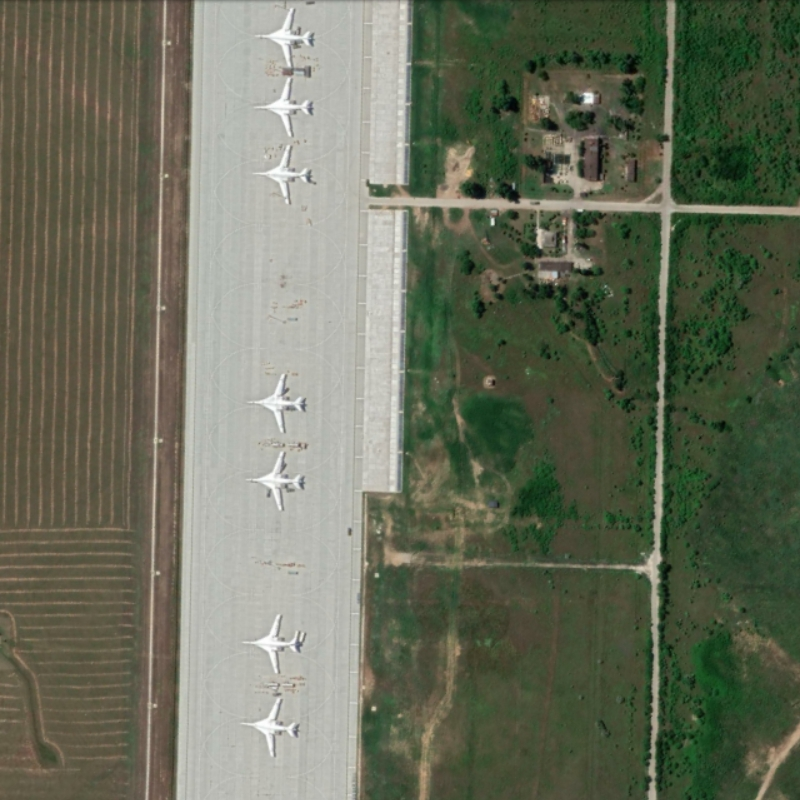A6: (242, 447, 305, 514), (238, 612, 302, 677), (251, 6, 315, 69), (249, 143, 312, 207), (237, 696, 300, 760), (250, 76, 313, 139), (244, 372, 306, 434)
